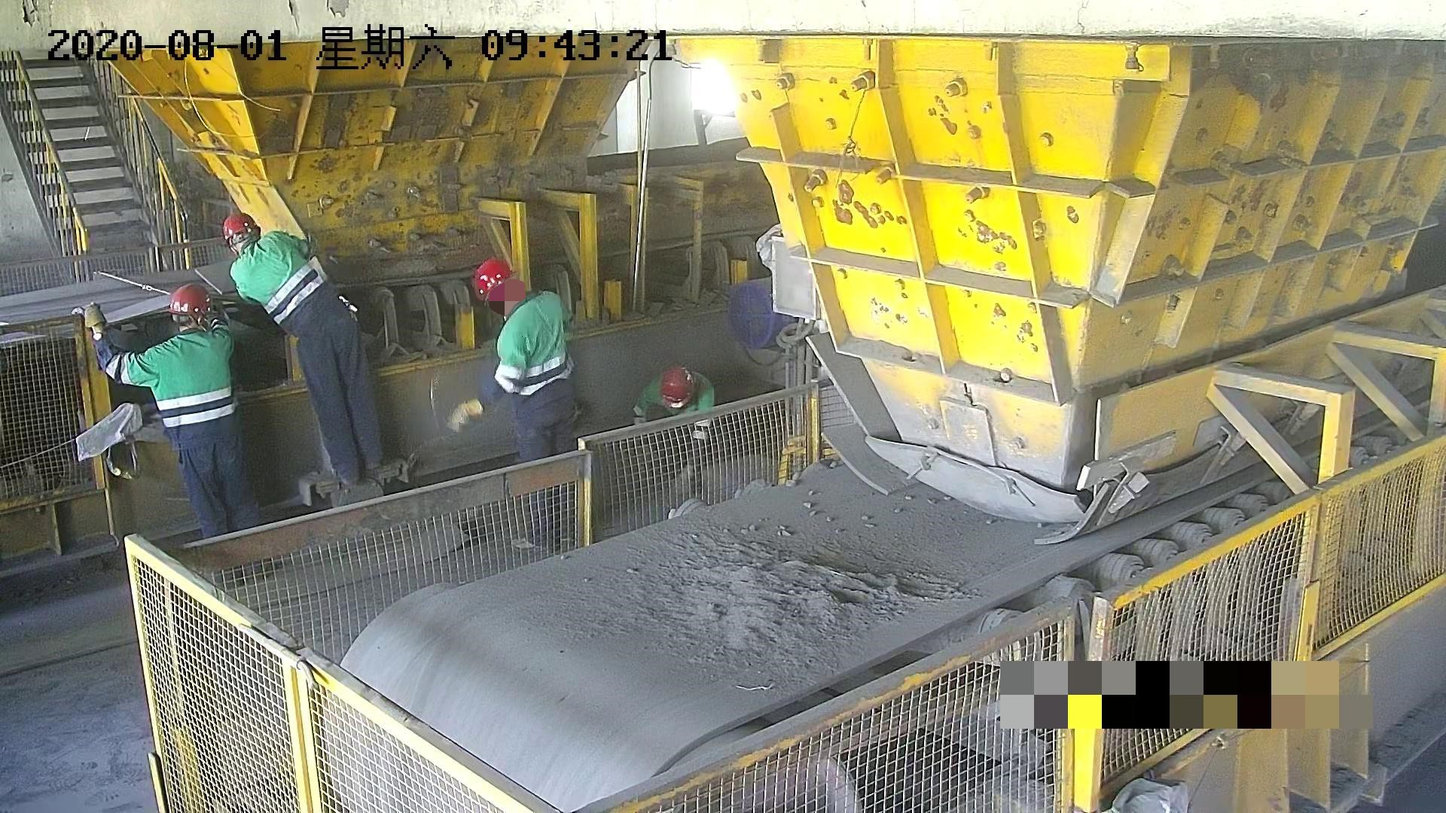hat: (475, 258, 522, 316), (169, 283, 209, 331), (224, 212, 261, 255), (661, 367, 694, 408)
person: (71, 282, 281, 586), (221, 209, 383, 483), (447, 256, 581, 553), (627, 364, 716, 494)
